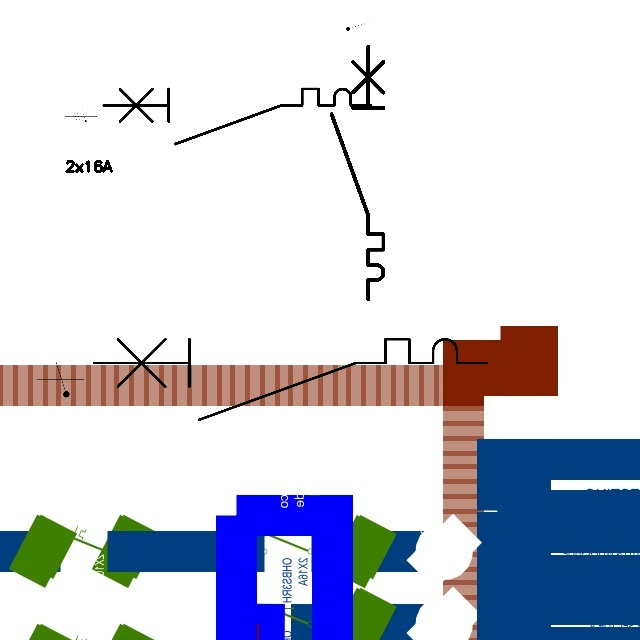interruptor_termomagnetico: (83, 329, 497, 430), (96, 82, 377, 151), (325, 40, 390, 306)
